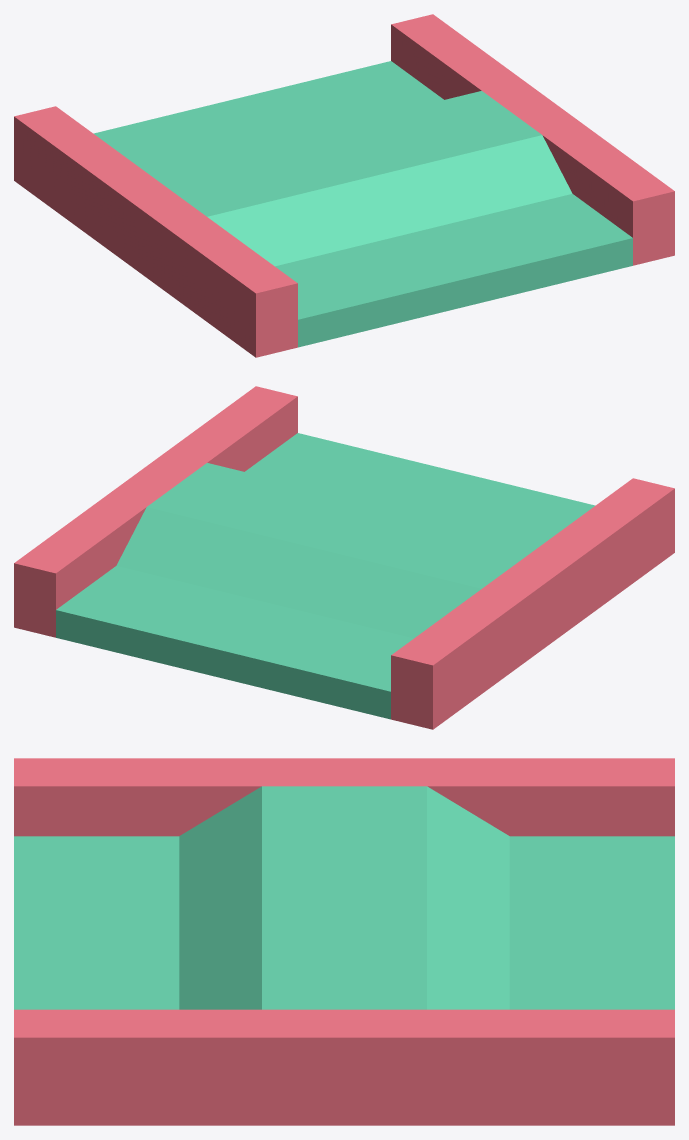
File: hillSquare.glb
The picture shows the model from 3 angles, top to bottom: view 1: azimuth 30°, elevation 25°; view 2: azimuth 150°, elevation 25°; view 3: azimuth 270°, elevation 25°; orthographic projection. The views are drawn at different scales.
Parts seen in each view (by area): view 1: hillSquare; view 2: hillSquare; view 3: hillSquare.
Boxes of the visible parts, box(x1,y1,x2,y2) form: hillSquare: box(14, 14, 674, 357); hillSquare: box(14, 386, 674, 729); hillSquare: box(14, 758, 674, 1125).
Bounding box in the file's own units: 0.9999 × 0.1467 × 0.9999.
